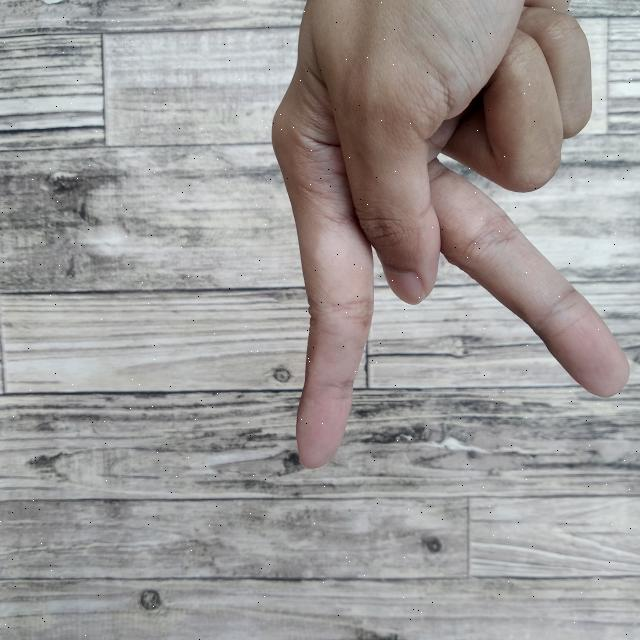P: (269, 0, 640, 477)
